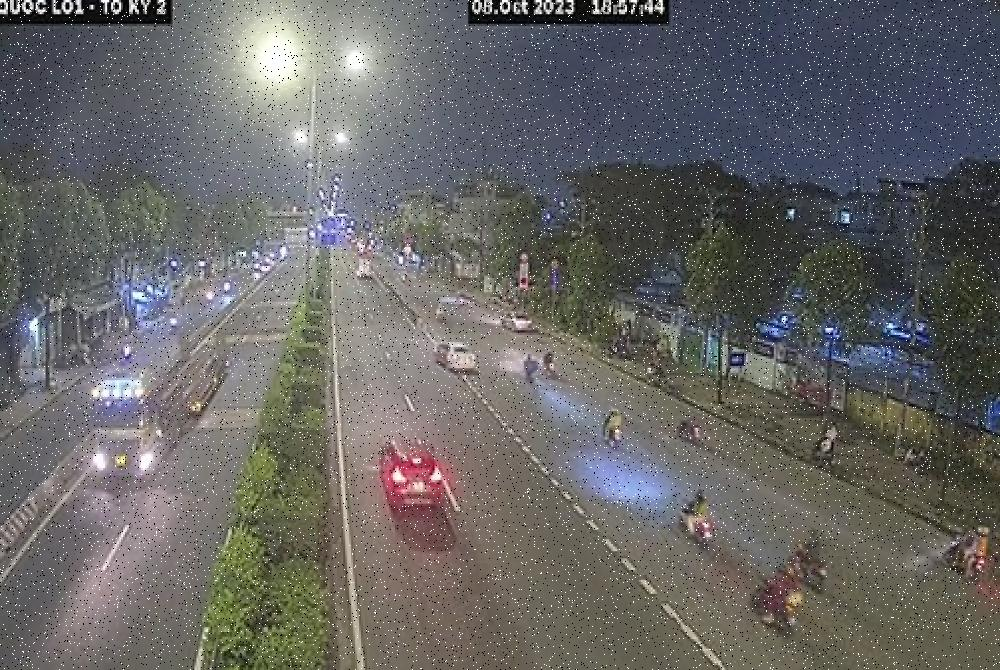car: (364, 422, 468, 552), (432, 334, 479, 391)
